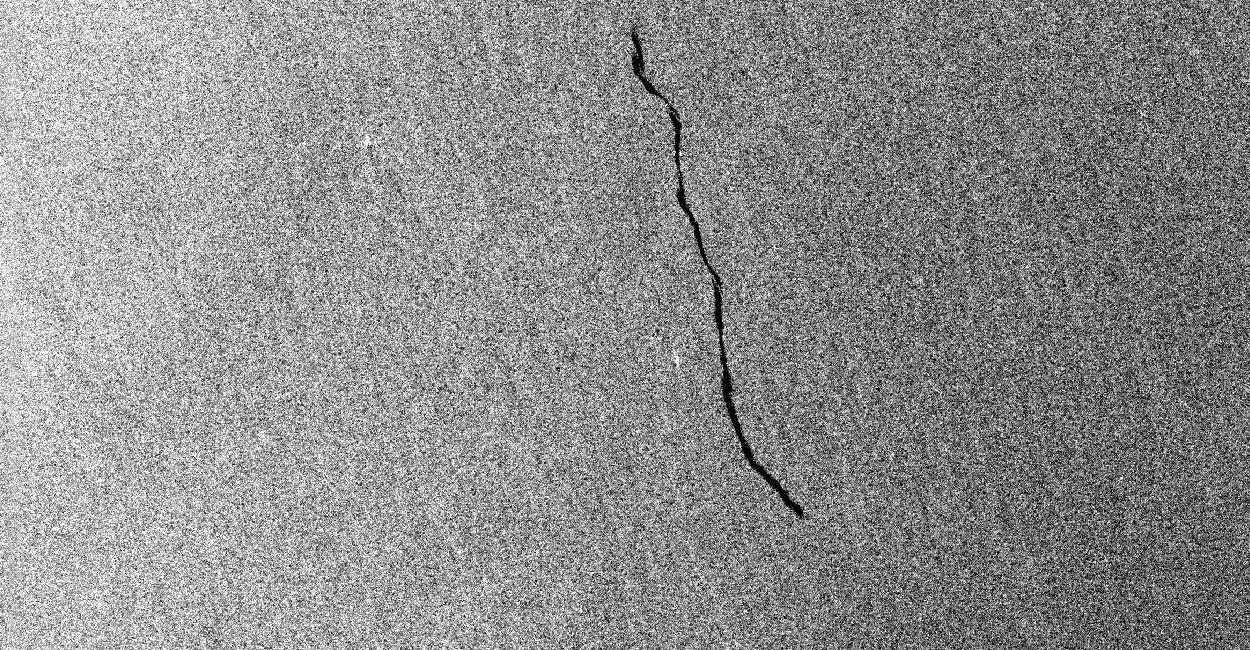Oil Spill: (630, 30, 805, 520)
